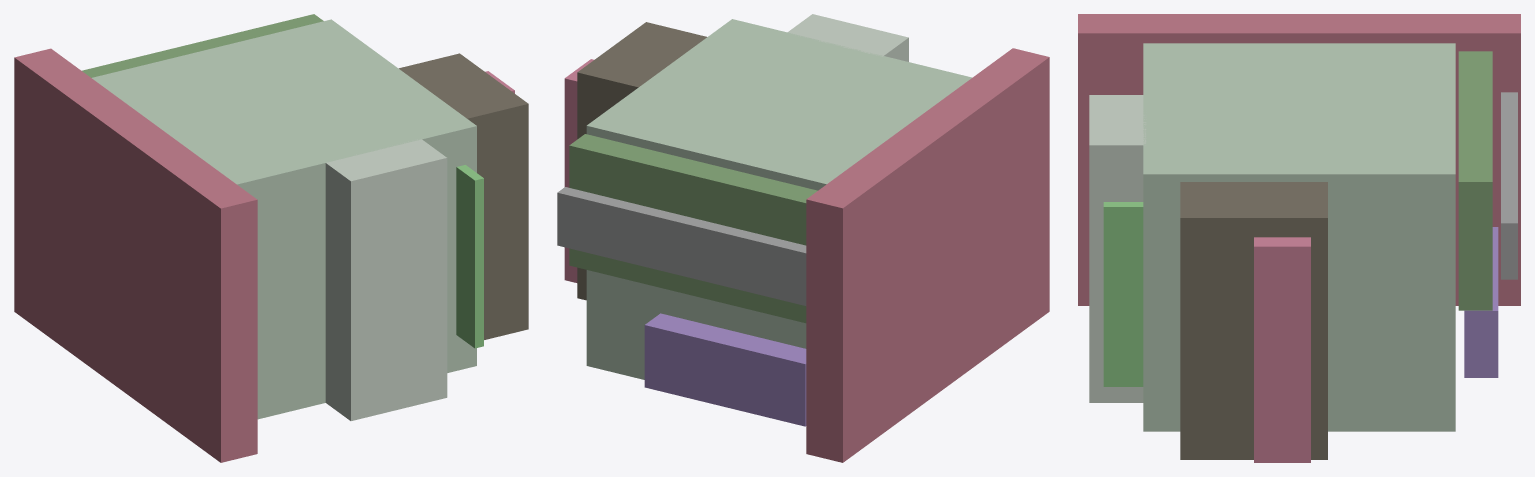
3 renders of one model, left to right at view 1: azimuth 30°, elevation 25°; view 2: azimuth 150°, elevation 25°; view 3: azimuth 270°, elevation 25°, orthographic. The views are drawn at different scales.
Parts seen in each view (by area): view 1: world; view 2: world; view 3: world.
Part boxes in pixels (left/top/right/bottom): world: left=14, top=14, right=528, bottom=462; world: left=557, top=14, right=1049, bottom=462; world: left=1078, top=14, right=1520, bottom=462.
Bounding box in the file's own units: 8.2 × 5.3 × 7.8.
